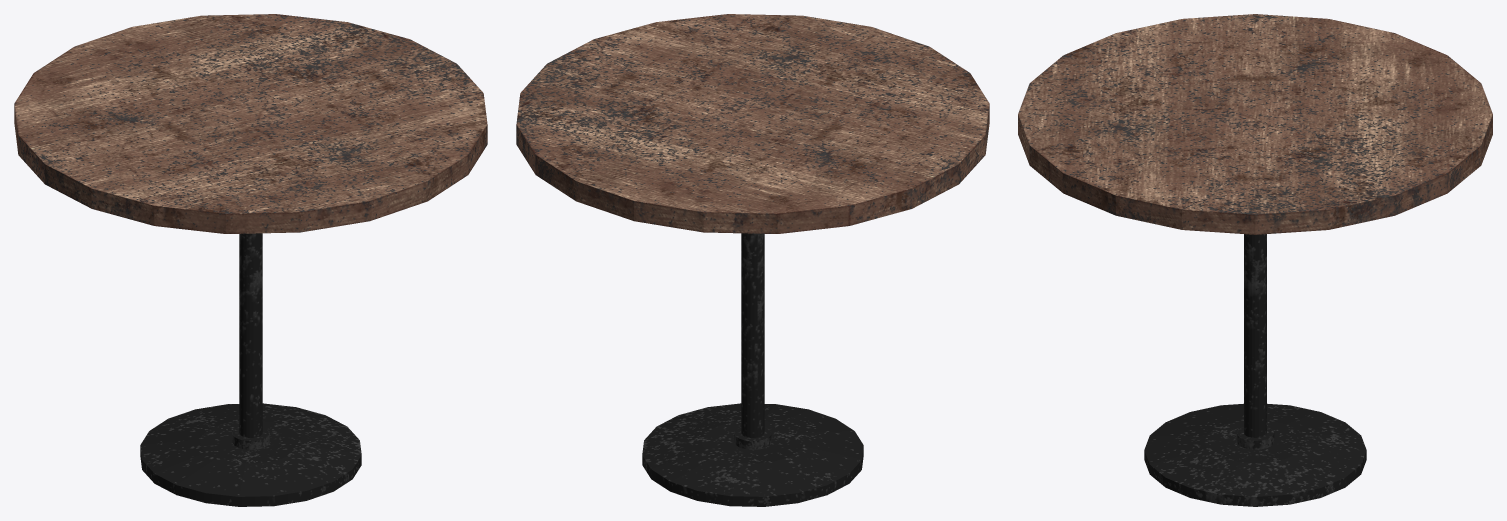
File: M_ShopTable.fbx
The picture shows the model from 3 angles, left to right: view 1: azimuth 30°, elevation 25°; view 2: azimuth 150°, elevation 25°; view 3: azimuth 270°, elevation 25°; orthographic projection.
Visible parts, largest first — view 1: shoptable_GEO; view 2: shoptable_GEO; view 3: shoptable_GEO.
Boxes of the visible parts, x1,y1,x2,y2 form: shoptable_GEO: (14, 14, 487, 506); shoptable_GEO: (516, 14, 989, 506); shoptable_GEO: (1018, 14, 1492, 506).
Bounding box in the file's own units: 1.16 × 0.9306 × 1.16.
1 material, 1 textured.
